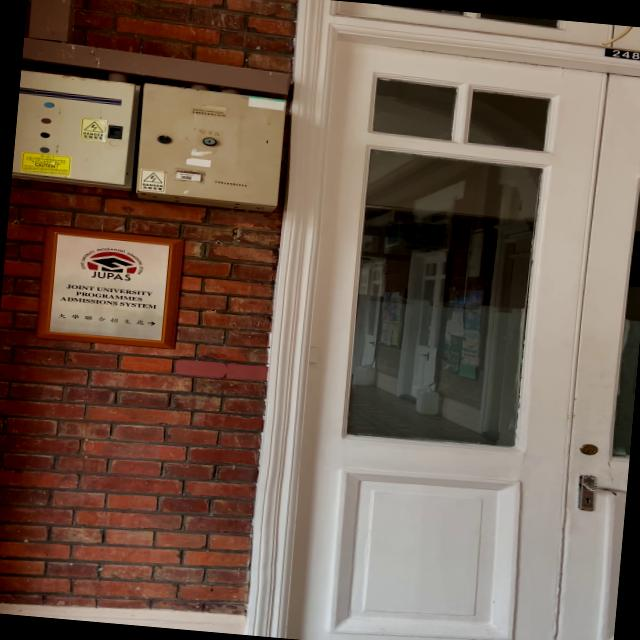room248: (601, 42, 640, 62)
